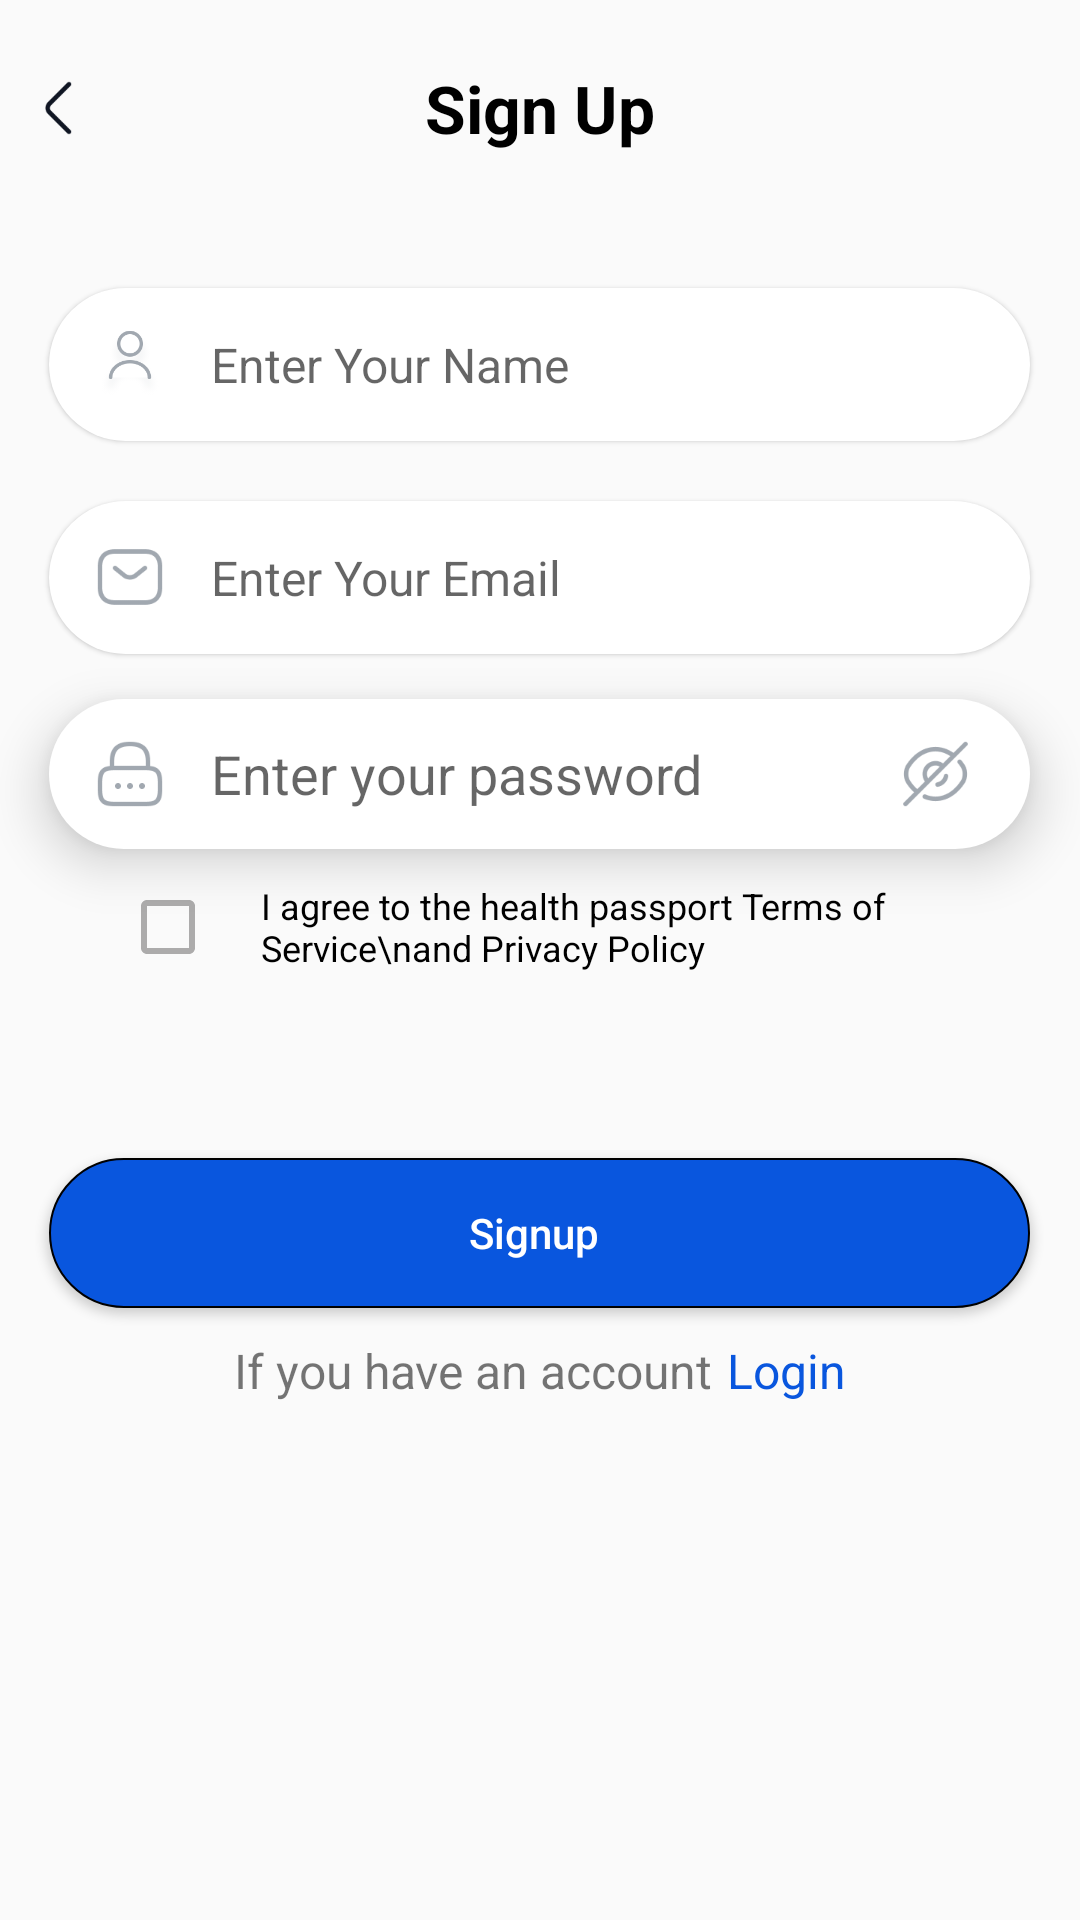

Screen size 1080×1920. Icon name, then its center in pixels as [x,y]:
back arrow: [58,108]
eye: [935,774]
lock: [130,774]
usermain: [130,355]
